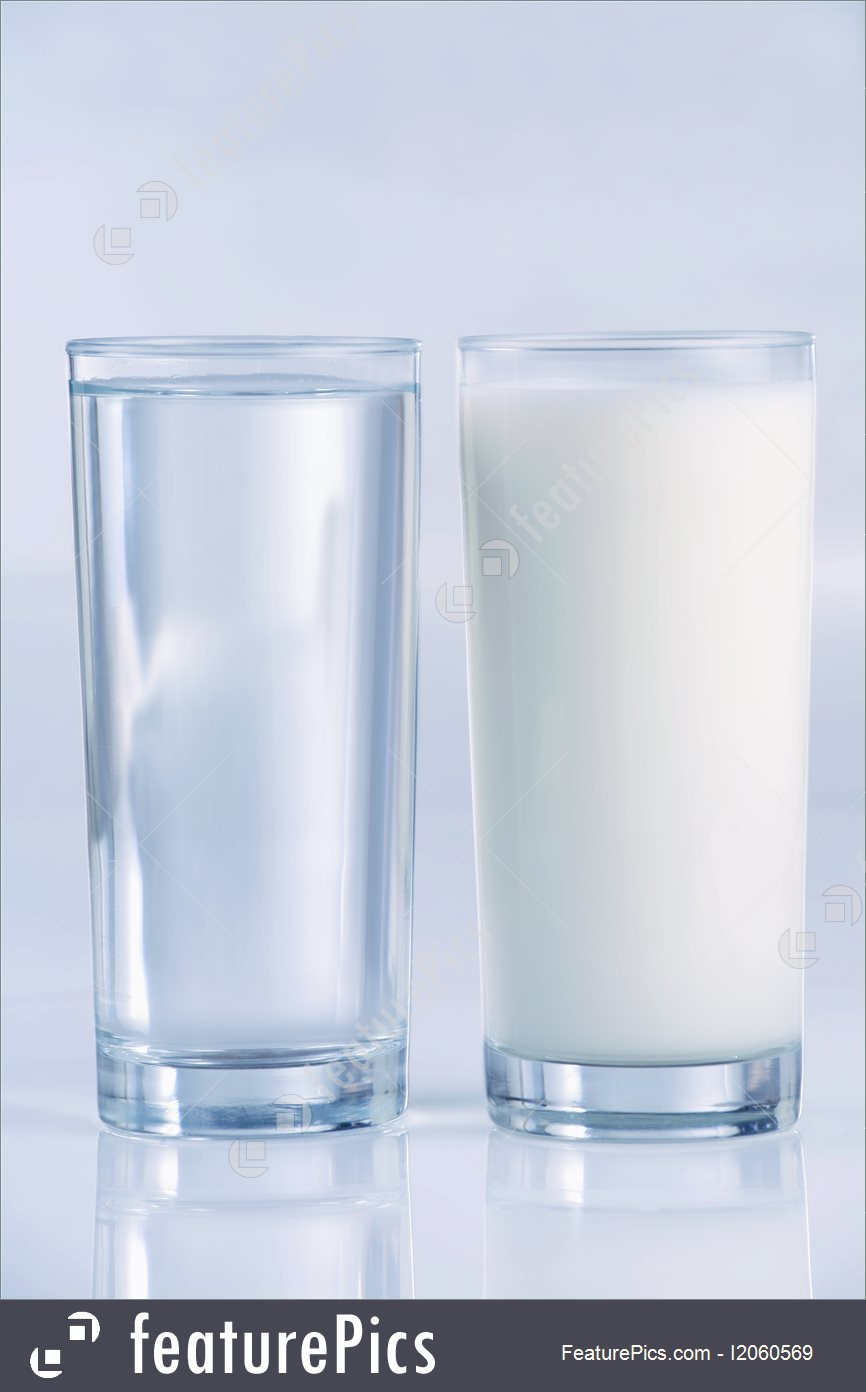glass of water: (84, 358, 404, 1089)
